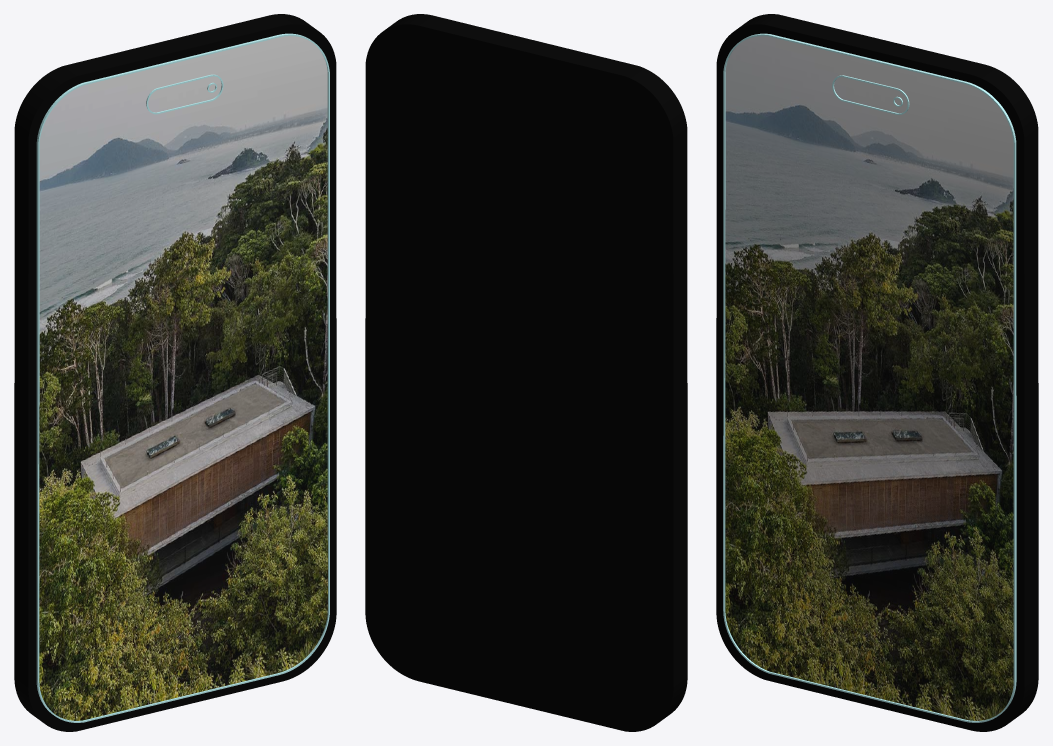
Rendered from Mita_phone4.glb.
3 renders of one model, left to right at view 1: azimuth 30°, elevation 25°; view 2: azimuth 150°, elevation 25°; view 3: azimuth 330°, elevation 25°, orthographic.
Parts seen in each view (by area): view 1: Cylinder.004, Cylinder.003, Cylinder.005; view 2: Cylinder.003; view 3: Cylinder.004, Cylinder.003, Cylinder.005.
Boxes of the visible parts, left/top/right/bottom form: Cylinder.004: left=39, top=36, right=327, bottom=720; Cylinder.003: left=14, top=14, right=336, bottom=731; Cylinder.005: left=36, top=33, right=329, bottom=722; Cylinder.003: left=365, top=14, right=687, bottom=731; Cylinder.004: left=725, top=36, right=1013, bottom=720; Cylinder.003: left=716, top=14, right=1038, bottom=731; Cylinder.005: left=723, top=33, right=1016, bottom=722.
Bounding box in the file's own units: 2.36 × 4.79 × 0.2048.
3 materials, 1 textured.
